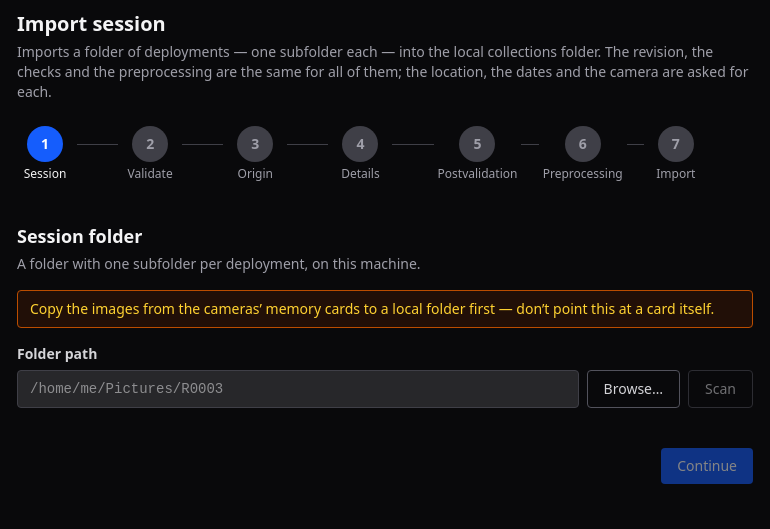
Test case: ImportSessionPage › shows why a folder cannot be scanned
Type "/empty" into the field labelled "Folder path" at coordinates (298, 389), box [17, 370, 579, 408]
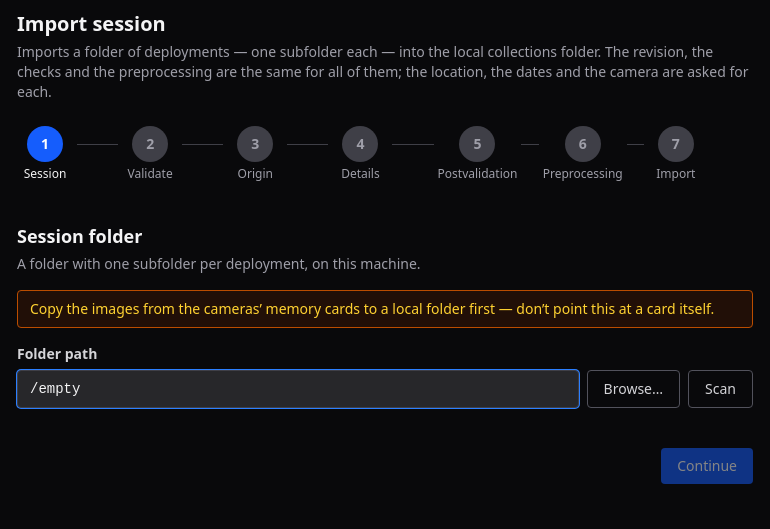
Click the button "Scan" at coordinates (721, 389), box [688, 370, 753, 408]
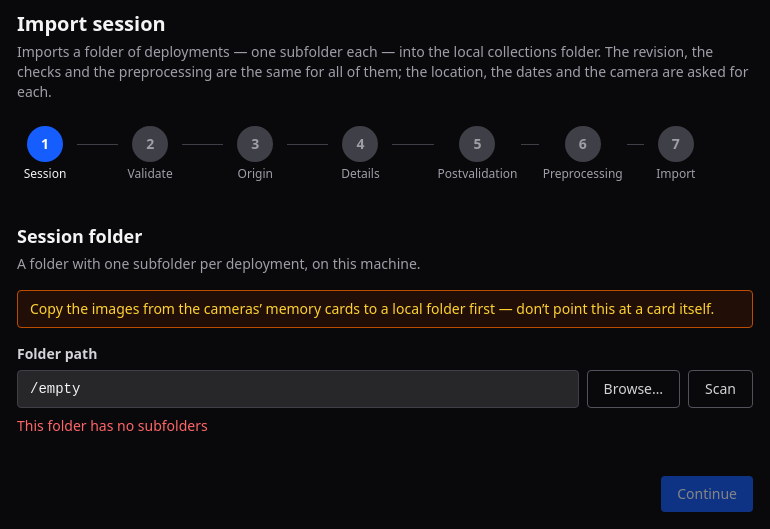
Expected: the text "This folder has no subfolders" is shown, [17, 416, 208, 435]
